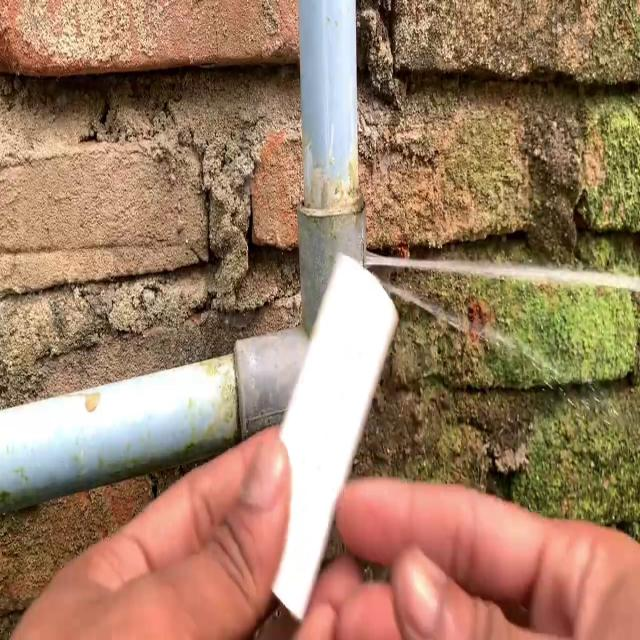leak: (363, 253, 640, 293)
